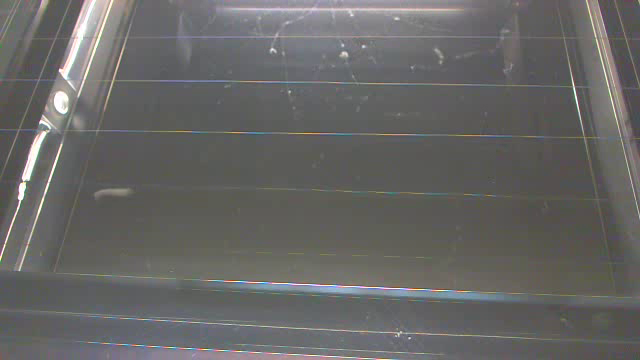alpha: (92, 181, 135, 207)
